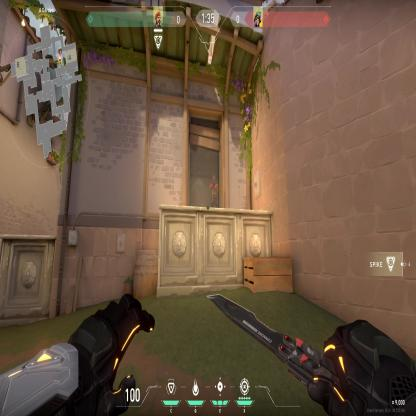enemy: (209, 173, 218, 208)
